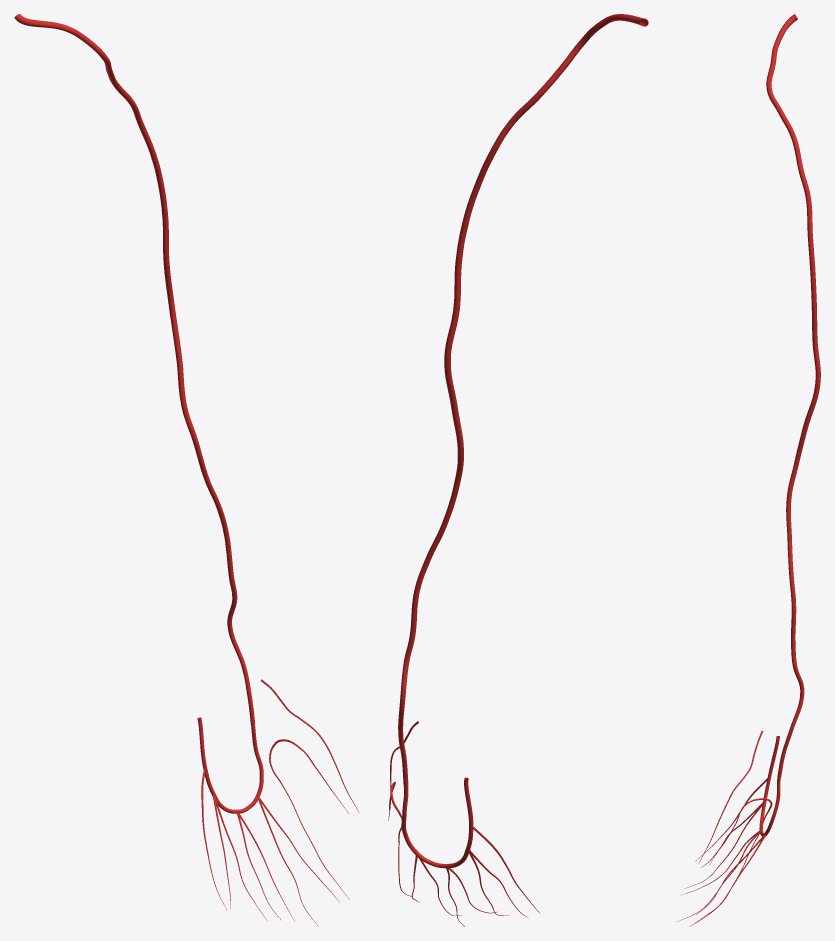
File: circulatorio-cephalic-vein-l.glb
The picture shows the model from 3 angles, left to right: view 1: azimuth 30°, elevation 25°; view 2: azimuth 150°, elevation 25°; view 3: azimuth 270°, elevation 25°; orthographic projection. The views are drawn at different scales.
Visible parts, largest first — view 1: Cephalic vein.l, Dorsal digital veins of hand.l, Dorsal venous network of hand.l; view 2: Cephalic vein.l, Dorsal digital veins of hand.l, Dorsal venous network of hand.l; view 3: Cephalic vein.l, Dorsal digital veins of hand.l, Dorsal venous network of hand.l.
Part boxes in pixels (x1=…): Cephalic vein.l: x1=14, y1=14, x2=255, y2=725; Dorsal digital veins of hand.l: x1=201, y1=679, x2=359, y2=926; Dorsal venous network of hand.l: x1=197, y1=717, x2=263, y2=813; Cephalic vein.l: x1=398, y1=14, x2=648, y2=787; Dorsal digital veins of hand.l: x1=388, y1=721, x2=540, y2=926; Dorsal venous network of hand.l: x1=401, y1=777, x2=473, y2=868; Cephalic vein.l: x1=766, y1=14, x2=820, y2=777; Dorsal digital veins of hand.l: x1=677, y1=730, x2=772, y2=926; Dorsal venous network of hand.l: x1=759, y1=736, x2=780, y2=836.
Size of the model in its own units: 0.2254 by 0.6849 by 0.1105.
